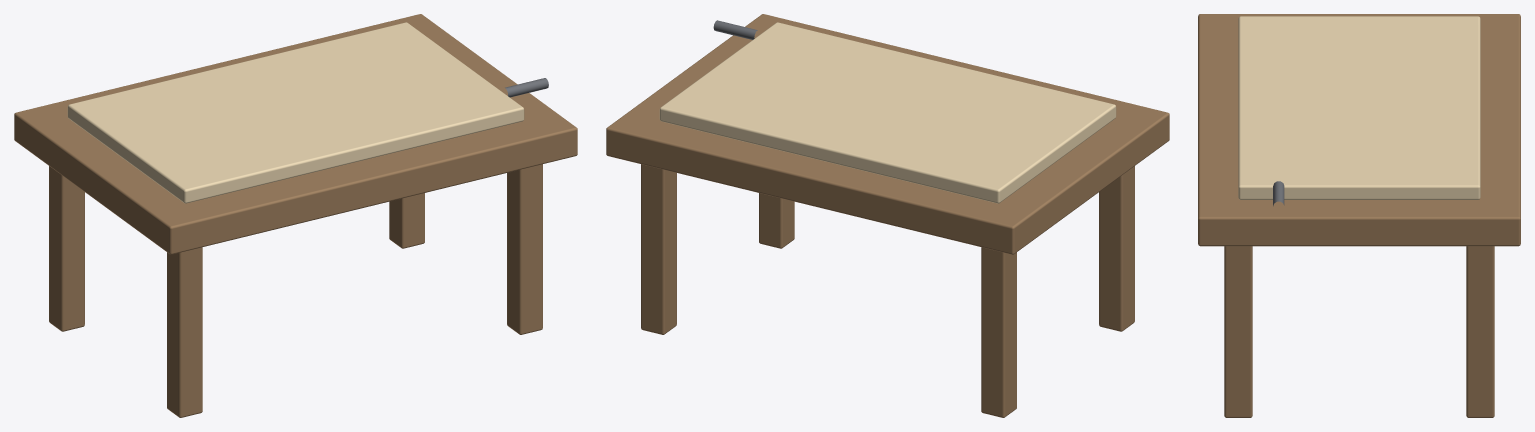
File: marquetry-and-veneer-inlay-workshop-vacuum-bag-pressin-e3647b03__39121.glb
The picture shows the model from 3 angles, left to right: view 1: azimuth 30°, elevation 25°; view 2: azimuth 150°, elevation 25°; view 3: azimuth 270°, elevation 25°; orthographic projection. The views are drawn at different scales.
Parts seen in each view (by area): view 1: vacuum-bag-pressing-table; view 2: vacuum-bag-pressing-table; view 3: vacuum-bag-pressing-table.
Boxes of the visible parts, box(x1,y1,x2,y2) form: vacuum-bag-pressing-table: box(14, 14, 577, 417); vacuum-bag-pressing-table: box(606, 14, 1169, 417); vacuum-bag-pressing-table: box(1198, 14, 1520, 417).
Size of the model in its own units: 1.22 by 0.6333 by 0.8.
